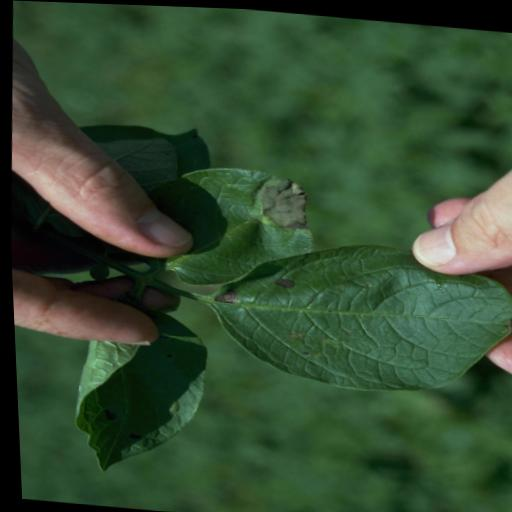Late Blight: (135, 154, 335, 297)
